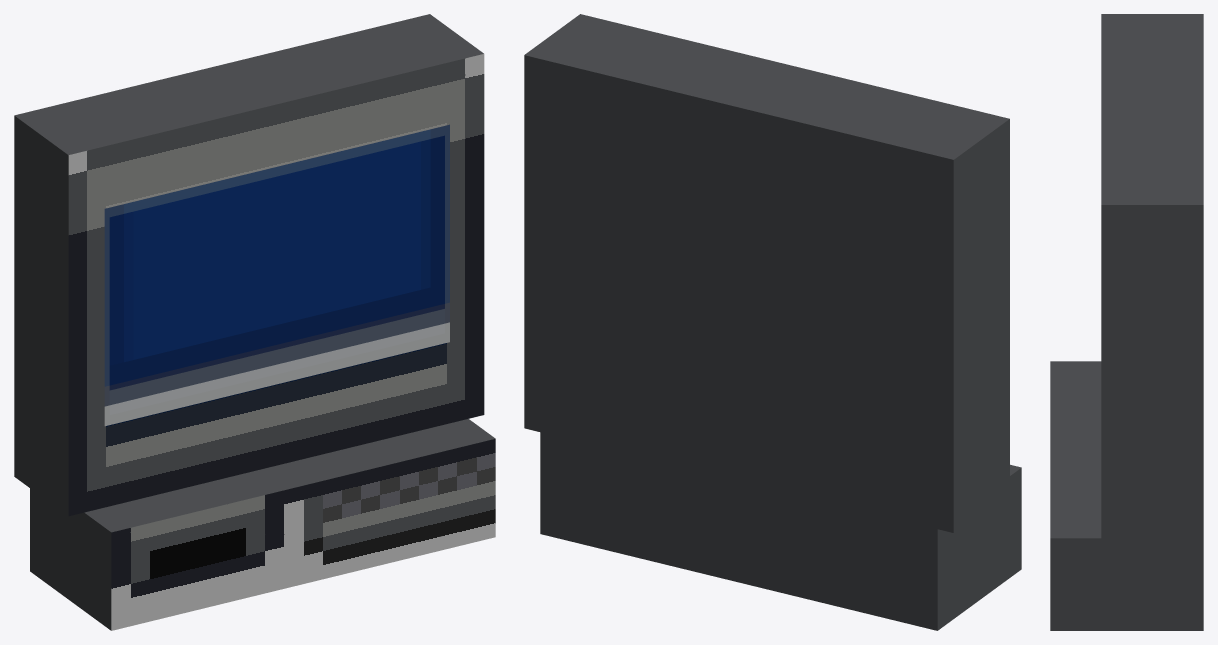
File: gulag_item_reclaimer.glb
The picture shows the model from 3 angles, left to right: view 1: azimuth 30°, elevation 25°; view 2: azimuth 150°, elevation 25°; view 3: azimuth 270°, elevation 25°; orthographic projection. The views are drawn at different scales.
Visible parts, largest first — view 1: Wall_Terminal, Reclaimer_Screen; view 2: Wall_Terminal; view 3: Wall_Terminal.
Part boxes in pixels (left/top/right/bottom): Wall_Terminal: left=14, top=14, right=495, bottom=630; Reclaimer_Screen: left=104, top=124, right=449, bottom=426; Wall_Terminal: left=524, top=14, right=1021, bottom=630; Wall_Terminal: left=1050, top=14, right=1203, bottom=630.
Size of the model in its own units: 1.06 by 1.12 by 0.36.
Materials: 2 (2 with a texture image).
